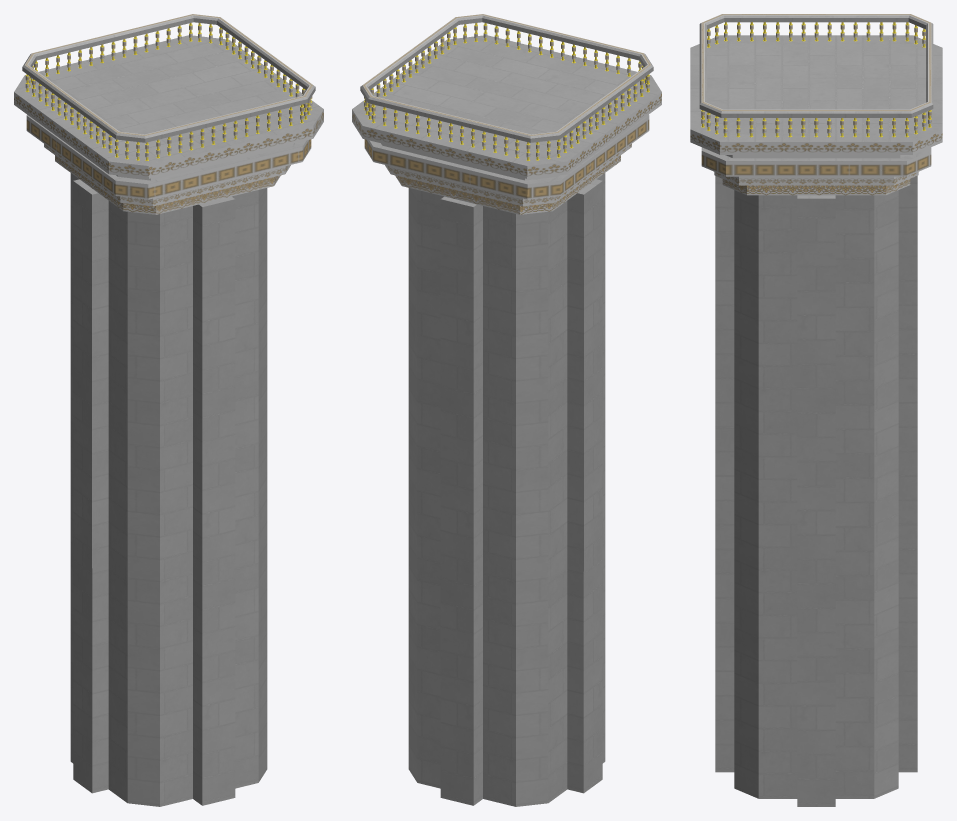
File: SM_module_03.glb
The picture shows the model from 3 angles, left to right: view 1: azimuth 30°, elevation 25°; view 2: azimuth 150°, elevation 25°; view 3: azimuth 270°, elevation 25°; orthographic projection.
Parts seen in each view (by area): view 1: SM_module_03; view 2: SM_module_03; view 3: SM_module_03.
Boxes of the visible parts, <box> form: SM_module_03: <box>14,14,323,806</box>; SM_module_03: <box>352,14,661,806</box>; SM_module_03: <box>690,14,942,806</box>.
Bounding box in the file's own units: 4.7 × 14.42 × 4.7.
Materials: 3 (3 with a texture image).
